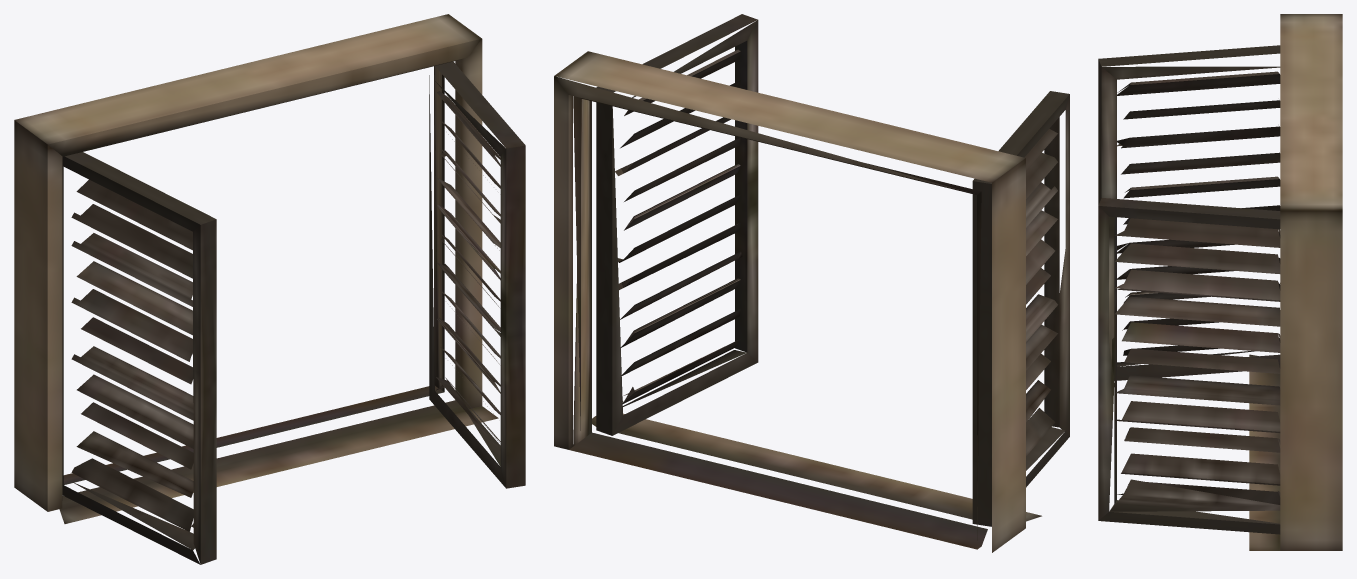
The model's file is window_lo.glb.
3 renders of one model, left to right at view 1: azimuth 30°, elevation 25°; view 2: azimuth 150°, elevation 25°; view 3: azimuth 270°, elevation 25°, orthographic. The views are drawn at different scales.
Visible parts, largest first — view 1: merged; view 2: merged; view 3: merged.
Boxes of the visible parts, <box> form: merged: <box>14,14,525,564</box>; merged: <box>554,14,1069,552</box>; merged: <box>1098,14,1342,550</box>.
Size of the model in its own units: 1.49 by 1.26 by 0.7844.
Materials: 1 (1 with a texture image).
